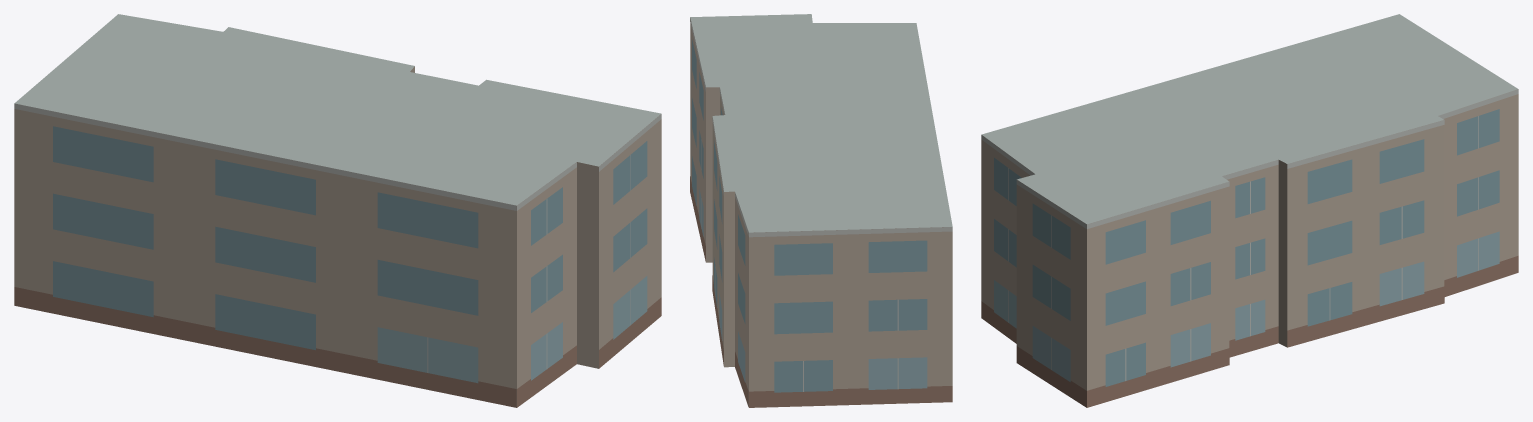
Rendered from survey-upis-32773756.glb.
3 views of the same model, side by side, from view 1: azimuth 30°, elevation 25°; view 2: azimuth 150°, elevation 25°; view 3: azimuth 270°, elevation 25° (orthographic). The views are drawn at different scales.
Visible parts, largest first — view 1: survey-upis-32773756.tmp; view 2: survey-upis-32773756.tmp; view 3: survey-upis-32773756.tmp.
Boxes of the visible parts, x1,y1,x2,y2 form: survey-upis-32773756.tmp: (14, 14, 661, 407); survey-upis-32773756.tmp: (690, 14, 952, 407); survey-upis-32773756.tmp: (981, 14, 1518, 407).
Bounding box in the file's own units: 22.5 × 9.15 × 24.28.
